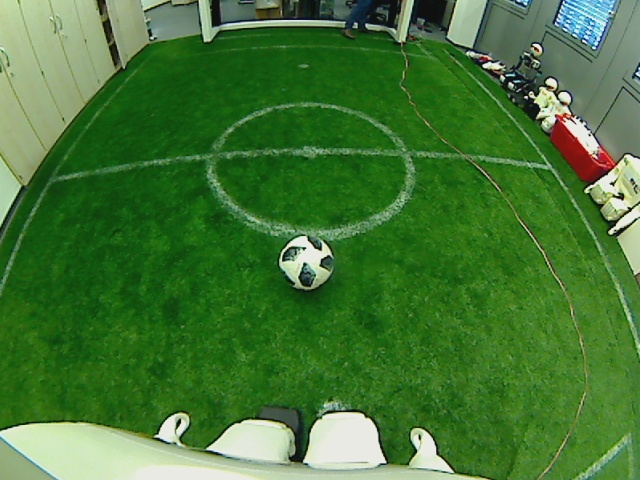ball: (276, 229, 335, 291)
